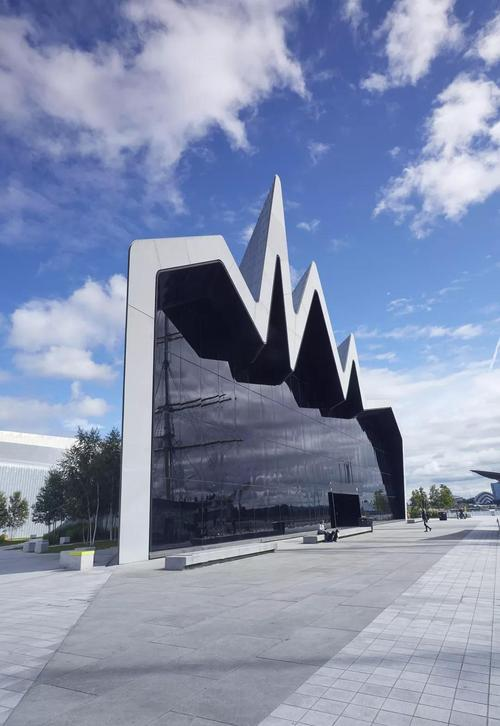buildings: (110, 247, 280, 530)
